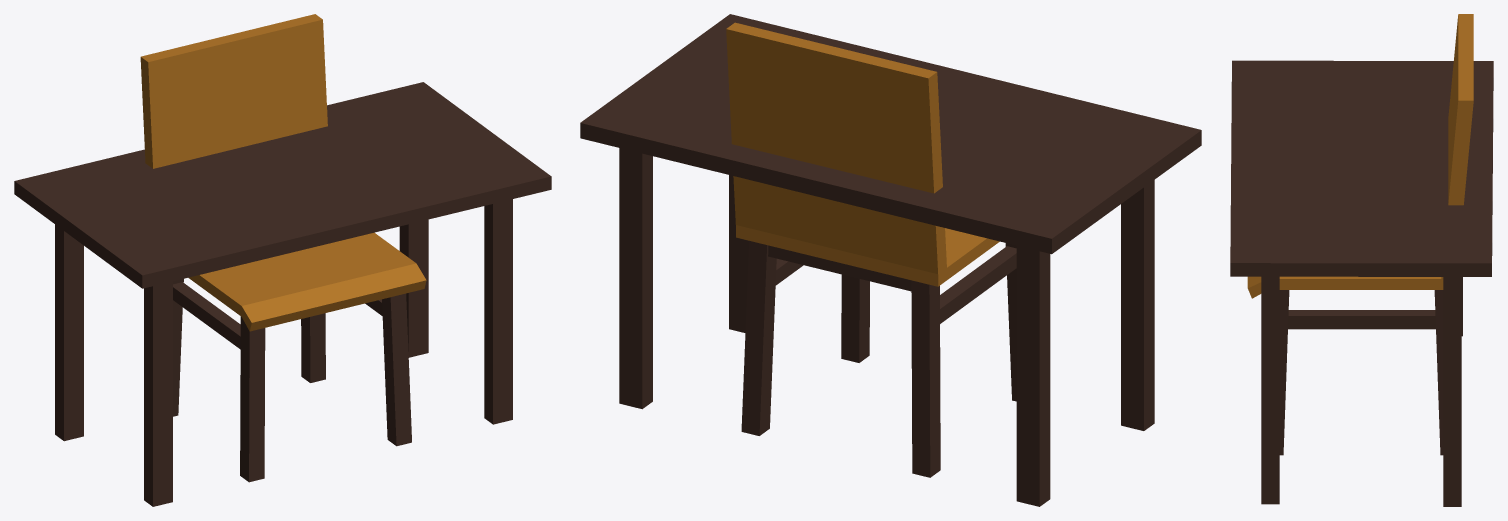
The model's file is Student table chair.fbx.
The picture shows the model from 3 angles, left to right: view 1: azimuth 30°, elevation 25°; view 2: azimuth 150°, elevation 25°; view 3: azimuth 270°, elevation 25°; orthographic projection. The views are drawn at different scales.
Parts seen in each view (by area): view 1: Student table, Student chair; view 2: Student table, Student chair; view 3: Student table, Student chair.
Part boxes in pixels (x1,y1,x2,y2): Student table: [14, 82, 551, 506]; Student chair: [140, 14, 426, 482]; Student table: [580, 14, 1201, 506]; Student chair: [726, 22, 1016, 477]; Student table: [1230, 60, 1493, 506]; Student chair: [1247, 14, 1473, 455].
Size of the model in its own units: 203 by 167 by 111.
